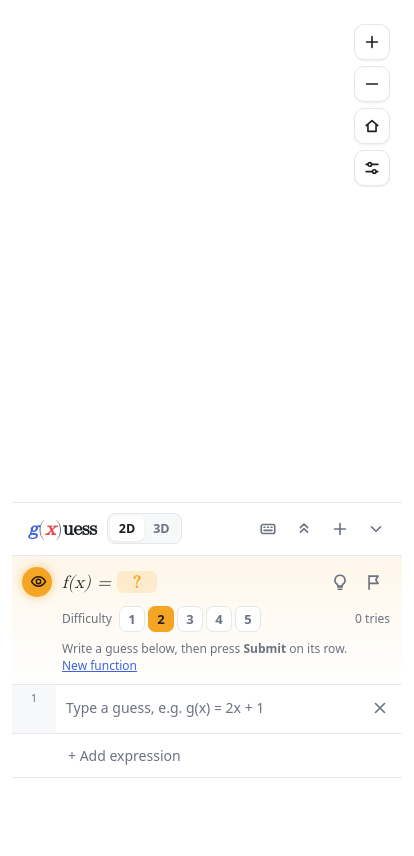
Test case: phone layout › toggles an expanded expression list and remembers it
Click the button named "Expand expression list": (304, 528) x1=288 y1=512 x2=320 y2=544
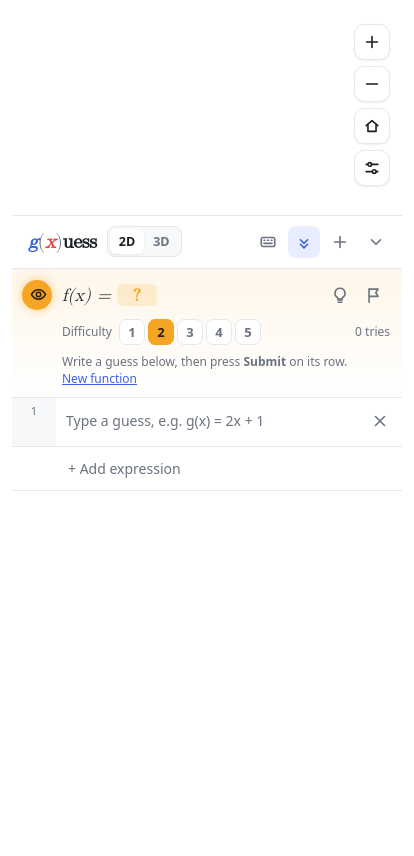
Now the element that starts with "uess" has class "is-panel-expanded"
Click the button named "Shrink expression list": (304, 242) x1=288 y1=226 x2=320 y2=258
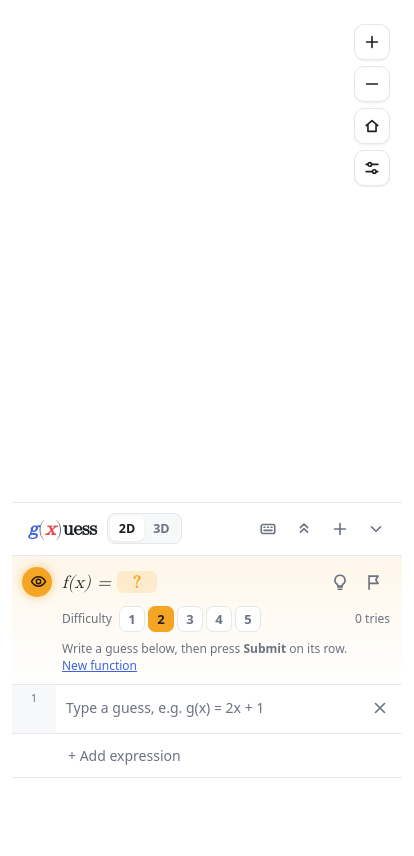
Now the element that starts with "uess" does not have class "is-panel-expanded"
